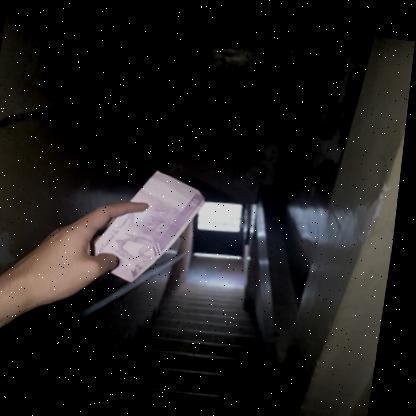one_hundred-back-vef: (89, 160, 215, 288)
